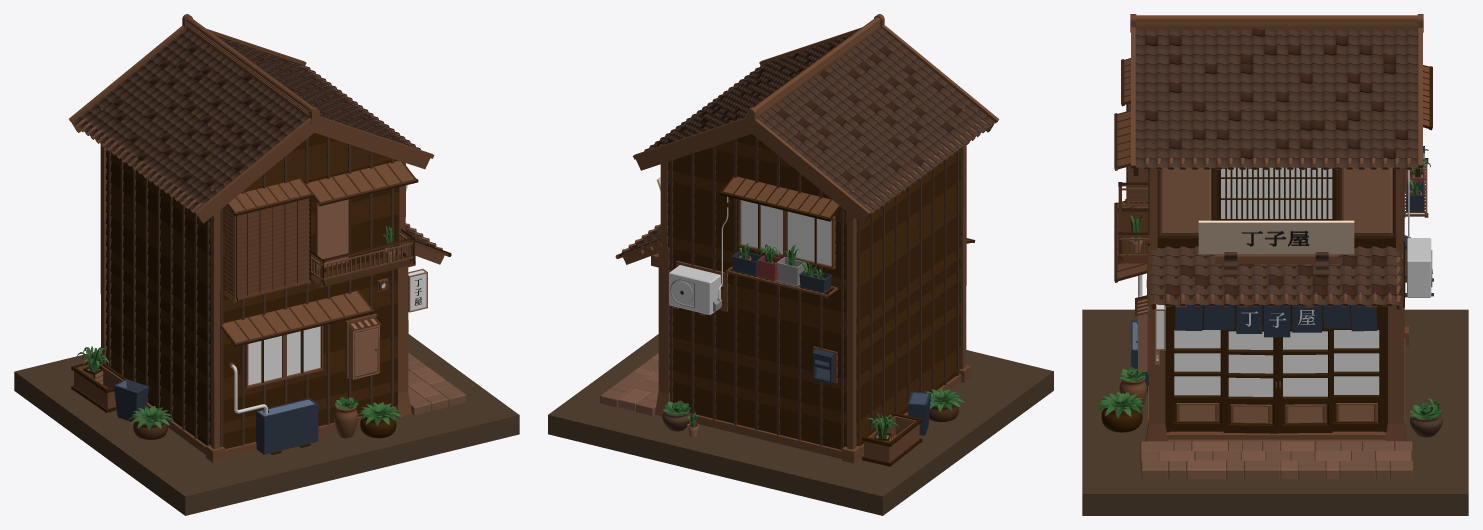
File: Japanese_Building.fbx
3 renders of one model, left to right at view 1: azimuth 30°, elevation 25°; view 2: azimuth 150°, elevation 25°; view 3: azimuth 270°, elevation 25°, orthographic. The views are drawn at different scales.
Visible parts, largest first — view 1: main_walls, 2_roof_support, 0_base, 2_side_bigbox, 1_pillars, 1_side_roof, 1_side_window, 1_side_tank, 2_side_balcony, 2_side_roof, 2_side_door, 2_top_decoration (+11 smaller); view 2: main_walls, 2_roof_support, 0_base, 1_pillars, 2_side_window, 2_side_roof.001, 2_side_windowsill, 2_side_fan, 2_top_decoration, 0_tile, back_box, 0_base.001 (+6 smaller); view 3: 2_roof_support, 0_base, 1_main_doors, 2_main_window, 1_roof_main, 0_tile, 1_sign, 1_flags.002, 2_top_decoration, 1_pillars, base_main, 2_side_balcony (+19 smaller).
Part boxes in pixels (x1,y1,x2,y2): main_walls: (105,132,398,448); 2_roof_support: (69,25,434,223); 0_base: (14,334,519,515); 2_side_bigbox: (224,178,314,302); 1_pillars: (100,104,411,462); 1_side_roof: (220,290,375,346); 1_side_window: (244,326,323,388); 1_side_tank: (229,362,318,454); 2_side_balcony: (311,228,415,287); 2_side_roof: (305,160,418,206); 2_side_door: (315,199,351,271); 2_top_decoration: (182,14,319,123); main_walls: (667,134,961,450); 2_roof_support: (633,24,998,224); 0_base: (548,334,1053,515); 1_pillars: (655,106,971,463); 2_side_window: (738,199,835,269); 2_side_roof.001: (720,175,840,221); 2_side_windowsill: (724,250,838,298); 2_side_fan: (669,196,728,315); 2_top_decoration: (746,14,884,124); 0_tile: (600,353,658,415); back_box: (862,412,922,466); 0_base.001: (690,374,961,458); 2_roof_support: (1131,27,1422,176); 0_base: (1082,309,1468,515); 1_main_doors: (1169,327,1383,433); 2_main_window: (1157,167,1395,238); 1_roof_main: (1150,246,1402,304); 0_tile: (1140,441,1412,478); 1_sign: (1198,220,1354,277); 1_flags.002: (1175,304,1377,337); 2_top_decoration: (1130,14,1423,32); 1_pillars: (1145,218,1408,441); base_main: (1157,238,1395,432); 2_side_balcony: (1117,182,1149,263).
Bounding box in the file's own units: 1046 × 1060 × 926.
